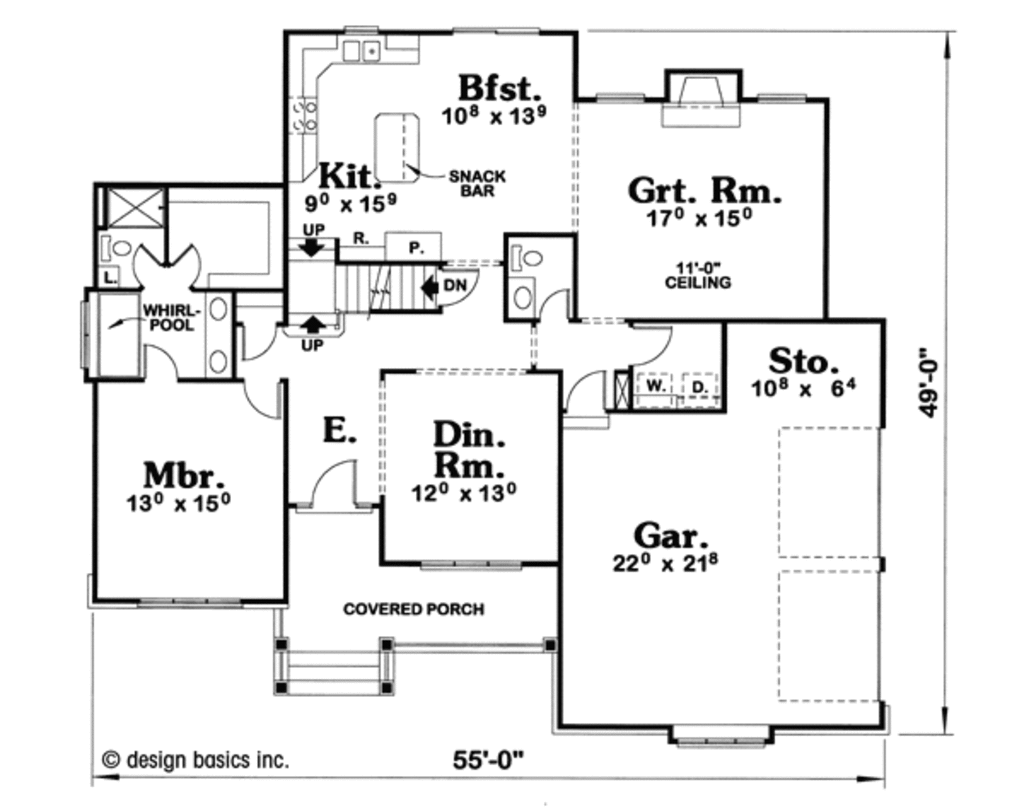door: (310, 458, 358, 512), (238, 373, 286, 420), (560, 365, 608, 412), (137, 342, 184, 387), (628, 324, 675, 368), (238, 319, 279, 366), (440, 266, 482, 308), (536, 287, 575, 331), (170, 240, 206, 287), (130, 237, 162, 289)
kitchen_bar: (366, 109, 428, 188)
large_sink: (507, 240, 548, 276), (100, 231, 131, 267)
small_sink: (204, 291, 234, 380), (506, 278, 542, 319)
stairs: (274, 629, 400, 704), (332, 258, 442, 317)
twin_sink: (337, 37, 388, 68)
window: (414, 557, 528, 578), (76, 296, 99, 372), (131, 595, 245, 610), (674, 735, 772, 750), (755, 89, 808, 112), (589, 90, 647, 108)
